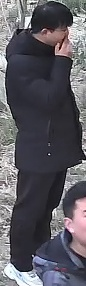smoking: (33, 1, 85, 86)
